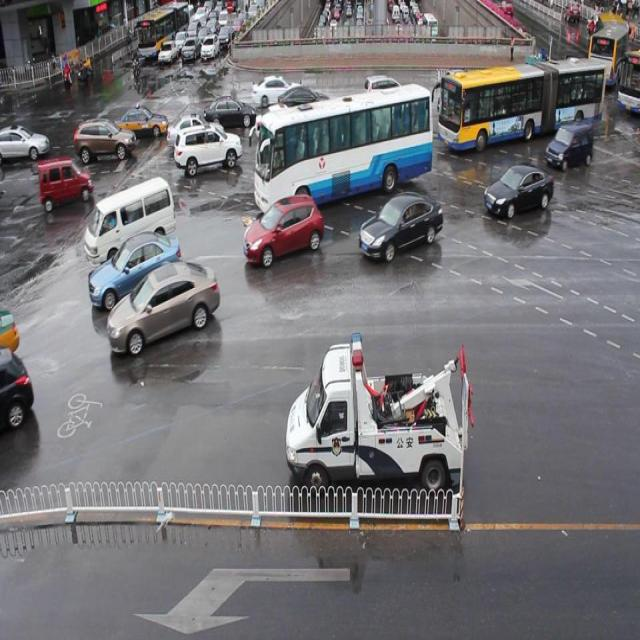bus: (286, 333, 474, 494)
car: (110, 260, 219, 354), (89, 231, 182, 308), (242, 192, 322, 263), (359, 191, 442, 259), (484, 163, 554, 216), (174, 122, 242, 174), (1, 346, 34, 428), (38, 159, 94, 207), (74, 121, 136, 162), (168, 112, 225, 150), (543, 124, 592, 168), (281, 100, 331, 139), (116, 105, 167, 140), (203, 95, 255, 129), (250, 76, 300, 109), (348, 95, 389, 133), (275, 83, 330, 111), (365, 75, 405, 111), (438, 82, 472, 120), (438, 70, 472, 104), (255, 106, 298, 132), (462, 77, 494, 111), (1, 304, 19, 362), (482, 78, 508, 105)
truck: (85, 175, 175, 269)
van: (254, 90, 434, 204), (440, 62, 606, 144)
